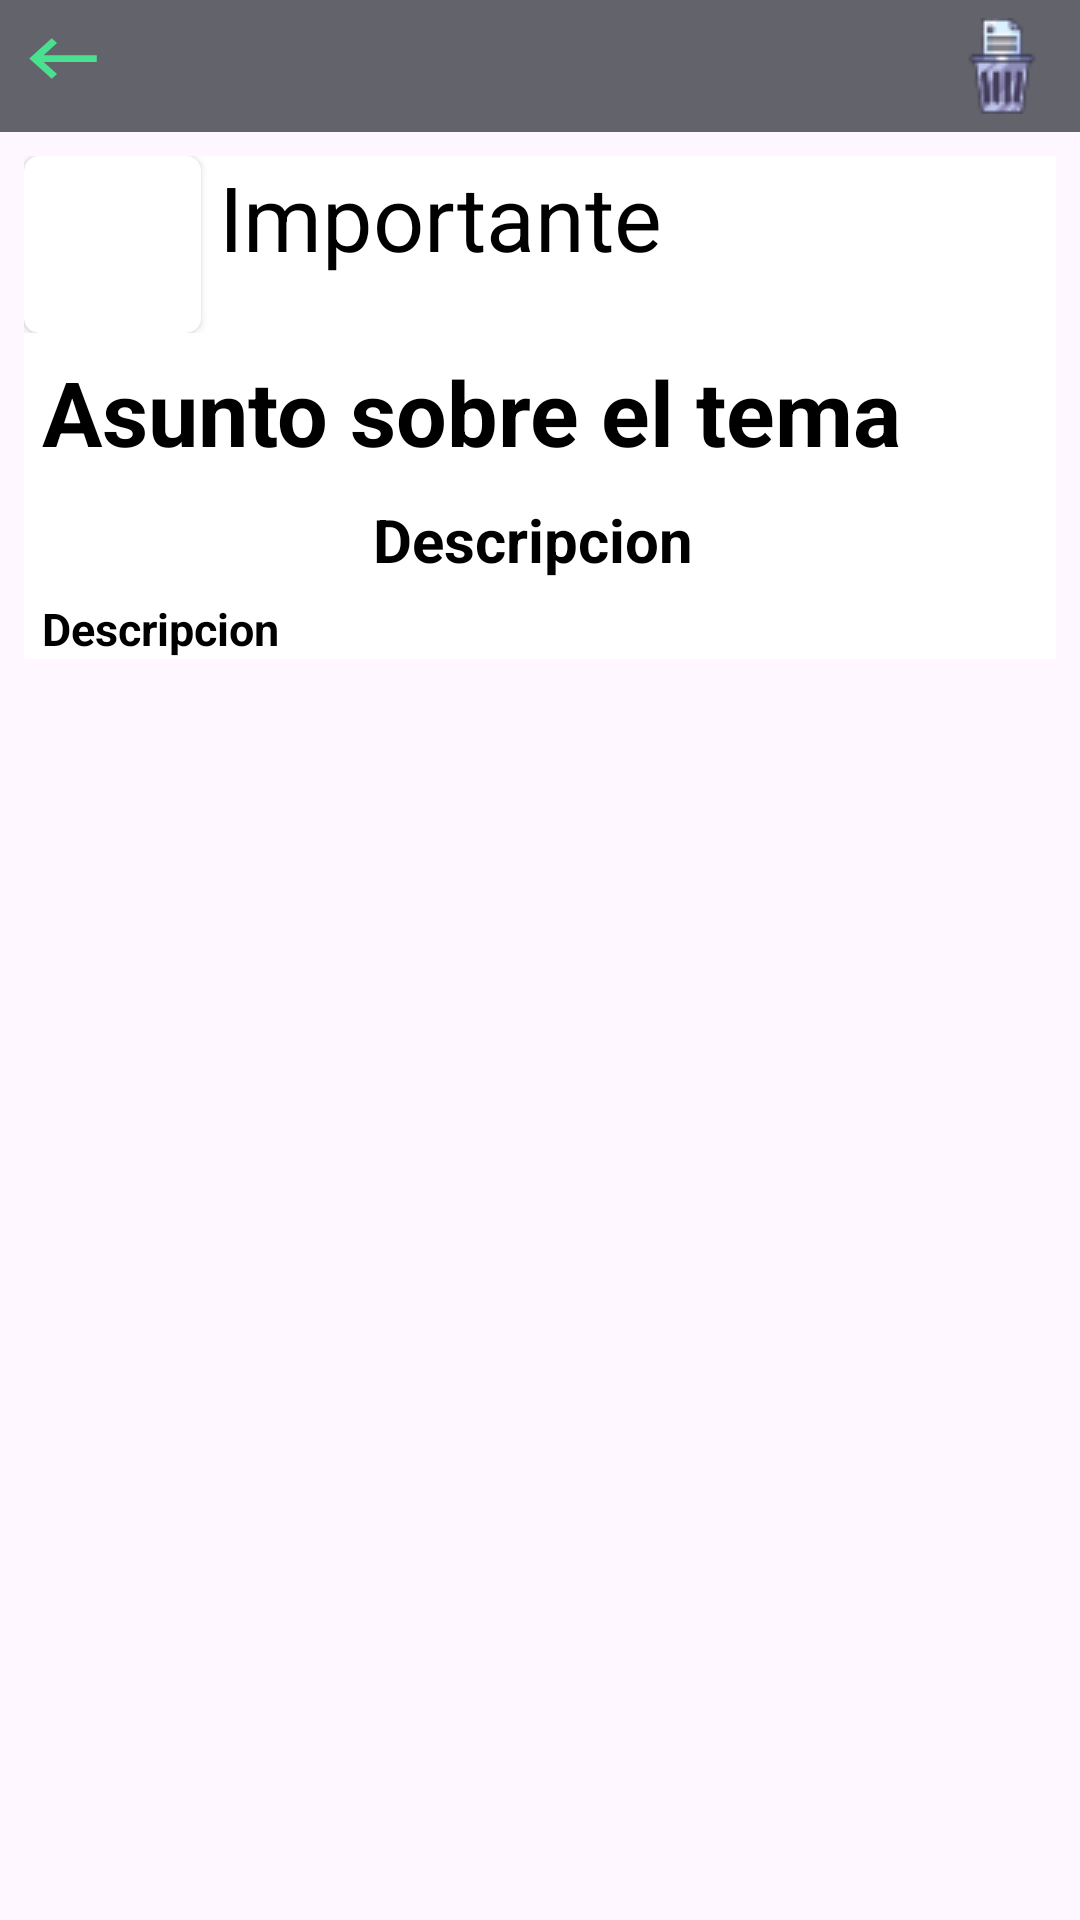

Point at icon controls on the screen. Image size 1080x1920, points as (x,y).
basura: (1002,66)
keyboard backspace: (63,58)
